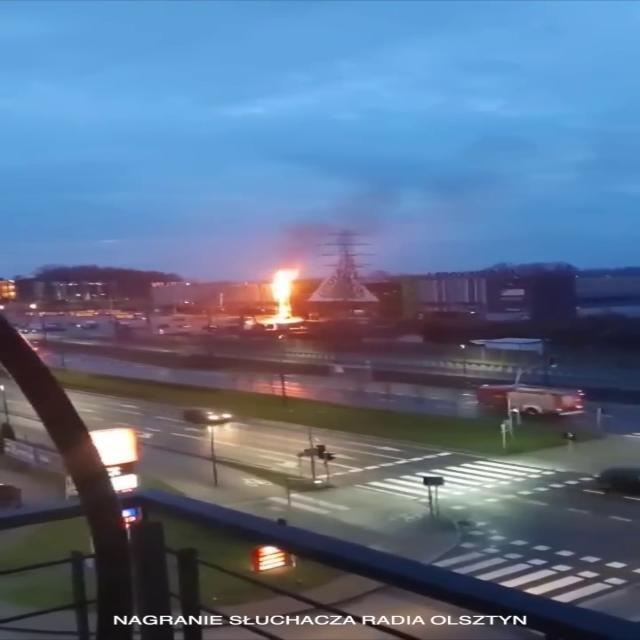Fire: (246, 262, 318, 328)
Smoke: (255, 175, 418, 272)
